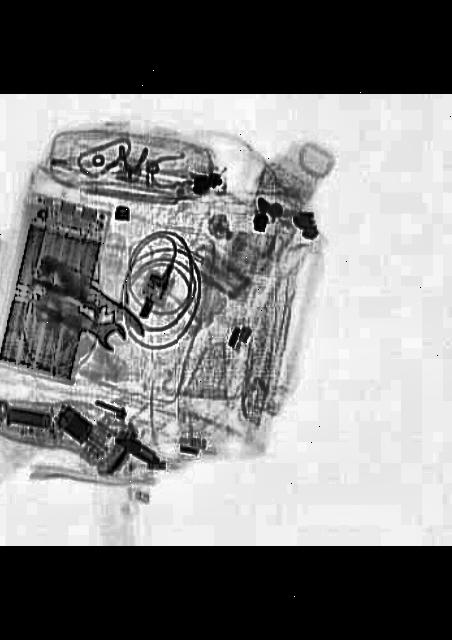Knife: (31, 252, 154, 344)
Wrench: (37, 294, 135, 356)
